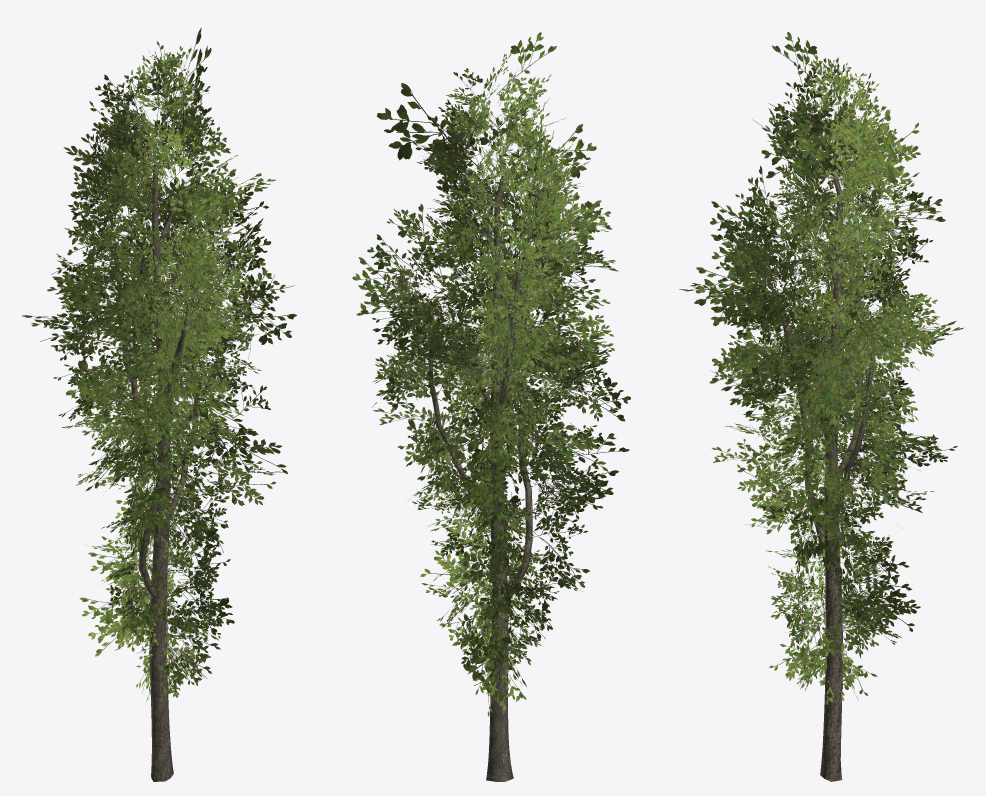
File: tree_poplar_v1_l0.glb
3 views of the same model, side by side, from view 1: azimuth 30°, elevation 25°; view 2: azimuth 150°, elevation 25°; view 3: azimuth 270°, elevation 25° (orthographic).
Parts seen in each view (by area): view 1: tree_poplar_v1_l0; view 2: tree_poplar_v1_l0; view 3: tree_poplar_v1_l0.
Boxes of the visible parts, x1=… form: tree_poplar_v1_l0: x1=22, y1=27, x2=296, y2=781; tree_poplar_v1_l0: x1=352, y1=32, x2=630, y2=781; tree_poplar_v1_l0: x1=679, y1=32, x2=963, y2=781.
Bounding box in the file's own units: 4.9 × 13.94 × 5.05.
2 materials, 2 textured.
